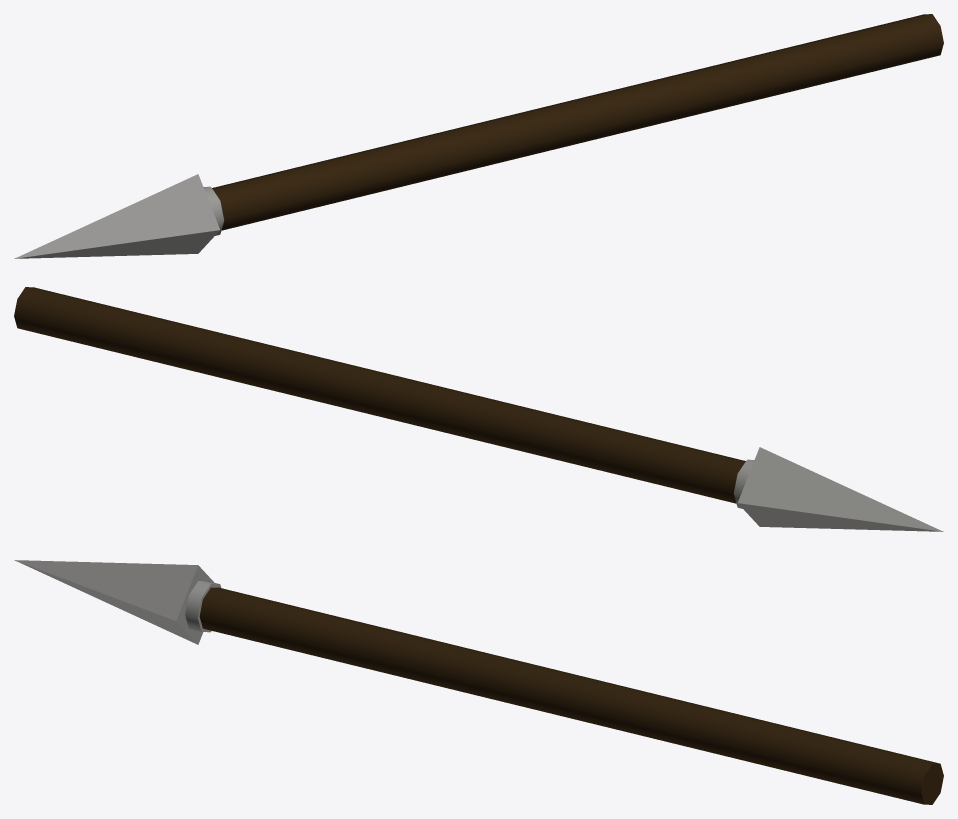
File: arrow.fbx
3 renders of one model, top to bottom at view 1: azimuth 30°, elevation 25°; view 2: azimuth 150°, elevation 25°; view 3: azimuth 330°, elevation 25°, orthographic.
Parts seen in each view (by area): view 1: arrow; view 2: arrow; view 3: arrow.
Part boxes in pixels (bbox=[...]): arrow: bbox=[14, 14, 943, 258]; arrow: bbox=[14, 287, 943, 531]; arrow: bbox=[14, 560, 943, 804].
Bounding box in the file's own units: 104 × 8.62 × 8.62.
